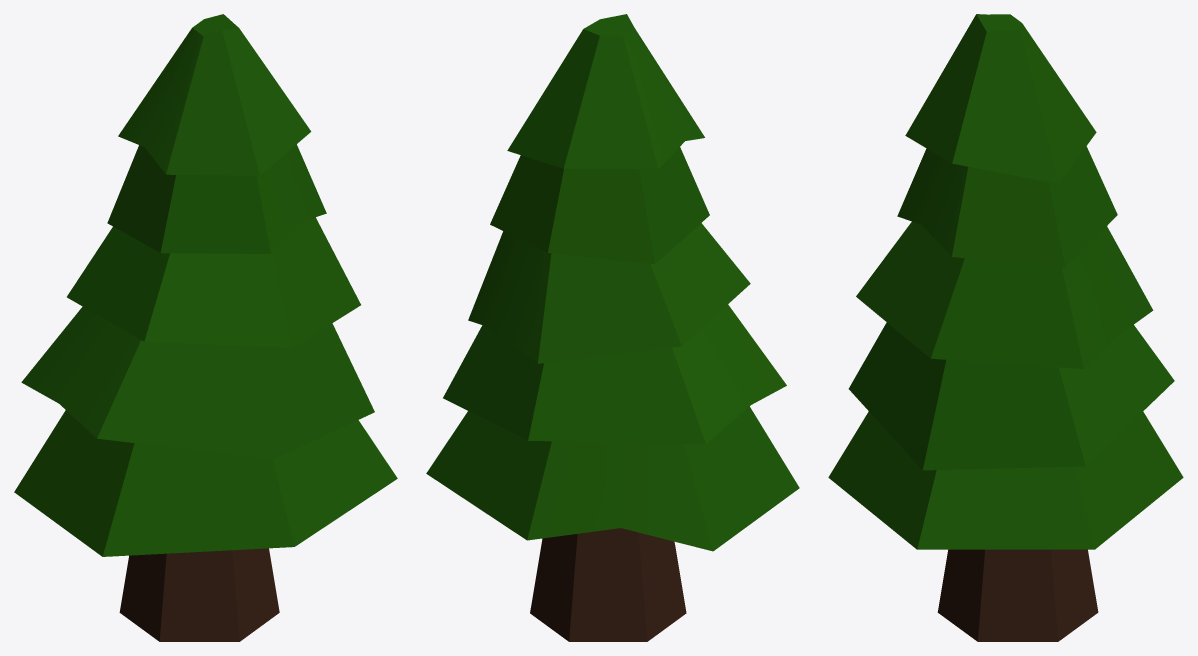
File: tree2.fbx
The picture shows the model from 3 angles, left to right: view 1: azimuth 30°, elevation 25°; view 2: azimuth 150°, elevation 25°; view 3: azimuth 270°, elevation 25°; orthographic projection. The views are drawn at different scales.
Parts seen in each view (by area): view 1: Cylinder.001, Cylinder.002, Cylinder.003, Cylinder.005, Cylinder.004, Cylinder; view 2: Cylinder.001, Cylinder.002, Cylinder.003, Cylinder.005, Cylinder.004, Cylinder; view 3: Cylinder.002, Cylinder.001, Cylinder.003, Cylinder.005, Cylinder.004, Cylinder.
Boxes of the visible parts, <box> form: Cylinder.001: <box>14,410,397,556</box>; Cylinder.002: <box>21,306,374,459</box>; Cylinder.003: <box>67,217,360,347</box>; Cylinder.005: <box>118,14,311,175</box>; Cylinder.004: <box>107,144,326,253</box>; Cylinder: <box>119,548,279,641</box>; Cylinder.001: <box>426,406,799,551</box>; Cylinder.002: <box>443,304,786,444</box>; Cylinder.003: <box>468,223,750,363</box>; Cylinder.005: <box>507,14,704,169</box>; Cylinder.004: <box>490,147,709,264</box>; Cylinder: <box>530,528,686,641</box>; Cylinder.002: <box>848,322,1174,470</box>; Cylinder.001: <box>828,411,1183,549</box>; Cylinder.003: <box>856,221,1153,368</box>; Cylinder.005: <box>905,14,1096,183</box>; Cylinder.004: <box>897,146,1117,267</box>; Cylinder: <box>937,549,1098,641</box>.
Bounding box in the file's own units: 425 × 823 × 442.
